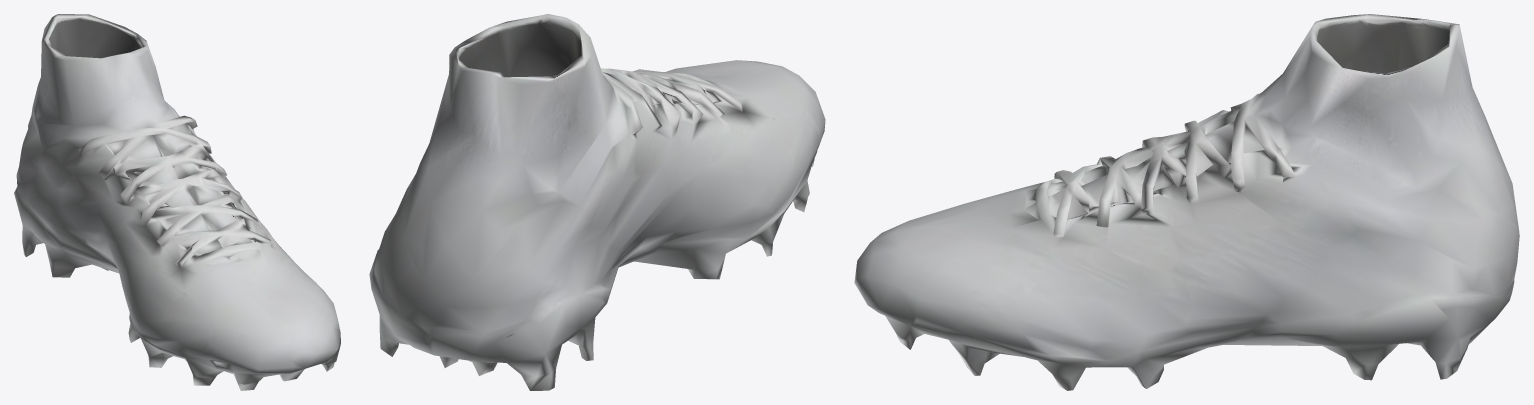
File: boot-elite-lod.glb
The picture shows the model from 3 angles, left to right: view 1: azimuth 30°, elevation 25°; view 2: azimuth 150°, elevation 25°; view 3: azimuth 270°, elevation 25°; orthographic projection. The views are drawn at different scales.
Parts seen in each view (by area): view 1: tripo_node_c2016b22-33e2-4f07-8cdb-f6c8ab7b9990; view 2: tripo_node_c2016b22-33e2-4f07-8cdb-f6c8ab7b9990; view 3: tripo_node_c2016b22-33e2-4f07-8cdb-f6c8ab7b9990.
Part boxes in pixels (box(x1,y1,x2,y2)): tripo_node_c2016b22-33e2-4f07-8cdb-f6c8ab7b9990: box(14, 14, 340, 390); tripo_node_c2016b22-33e2-4f07-8cdb-f6c8ab7b9990: box(369, 14, 825, 390); tripo_node_c2016b22-33e2-4f07-8cdb-f6c8ab7b9990: box(854, 14, 1519, 390).
Size of the model in its own units: 0.3854 by 0.4971 by 0.9972.
Materials: 1 (1 with a texture image).
